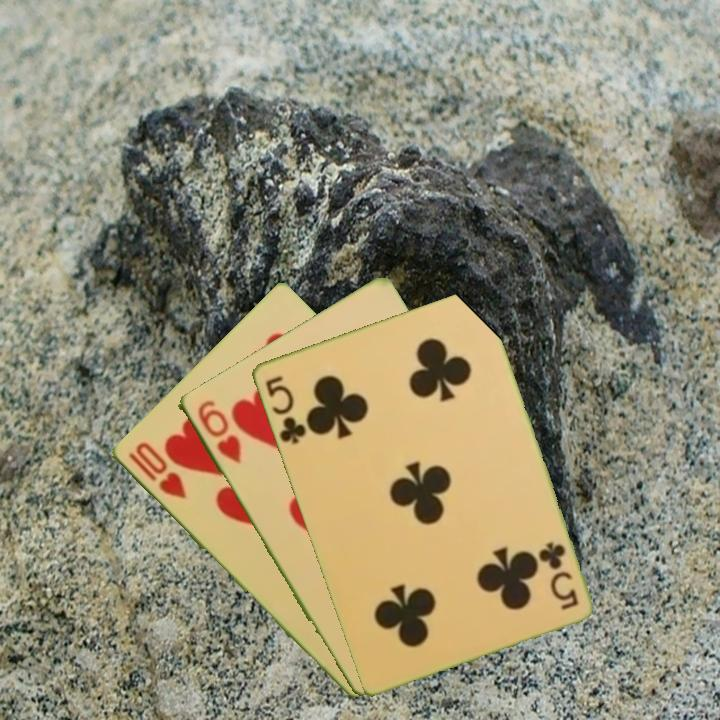10h: (123, 438, 189, 502)
5c: (261, 371, 308, 447), (535, 538, 581, 613)
6h: (193, 396, 244, 467)
